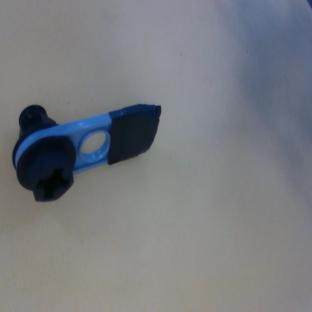part_1_bad: (13, 106, 161, 202)
